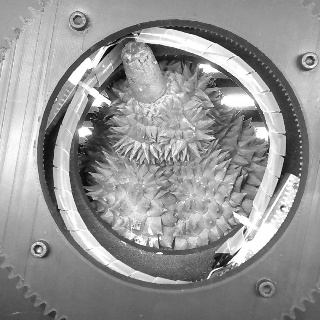base: (137, 76, 175, 108)
end: (120, 40, 145, 59)
